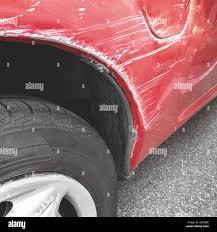scratch: (0, 1, 193, 153)
